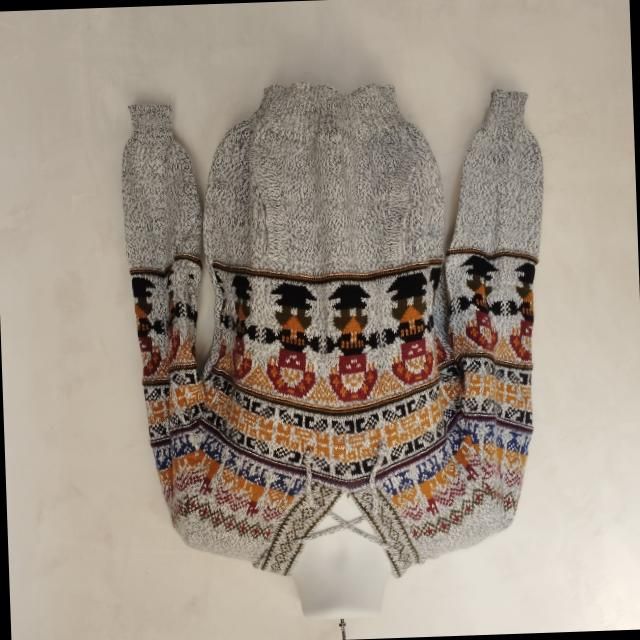Chompa: (117, 73, 558, 610)
